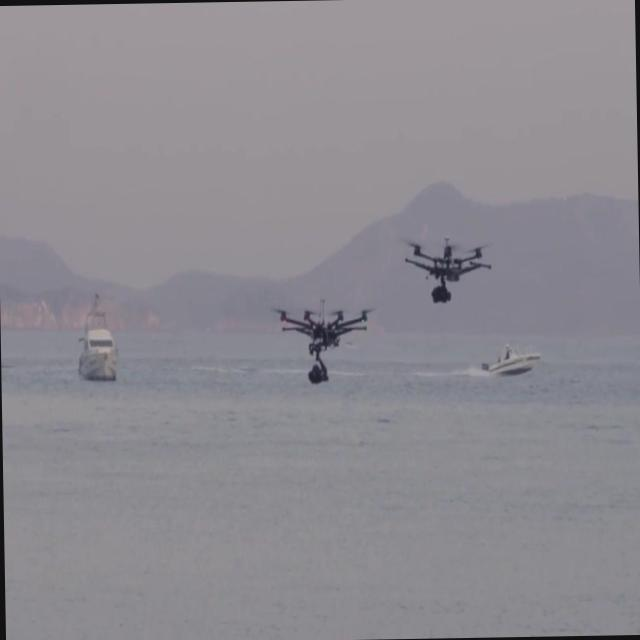drone: (270, 294, 371, 390), (401, 232, 494, 313)
